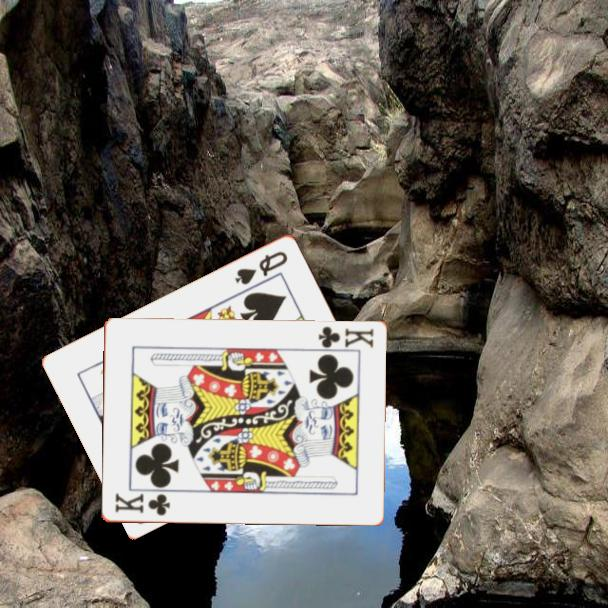c13: (111, 490, 173, 519), (315, 323, 376, 351)
s12: (231, 247, 291, 287)
